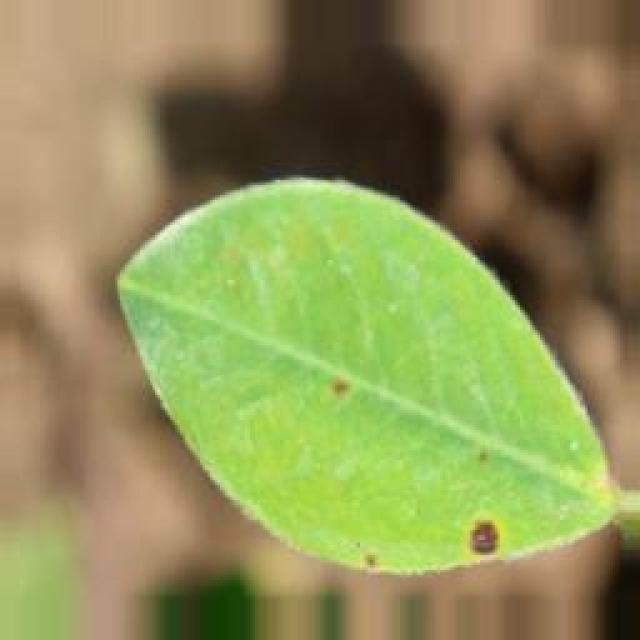Sigatoka: (428, 508, 516, 574), (318, 366, 383, 424), (358, 530, 408, 594), (468, 400, 501, 483)
